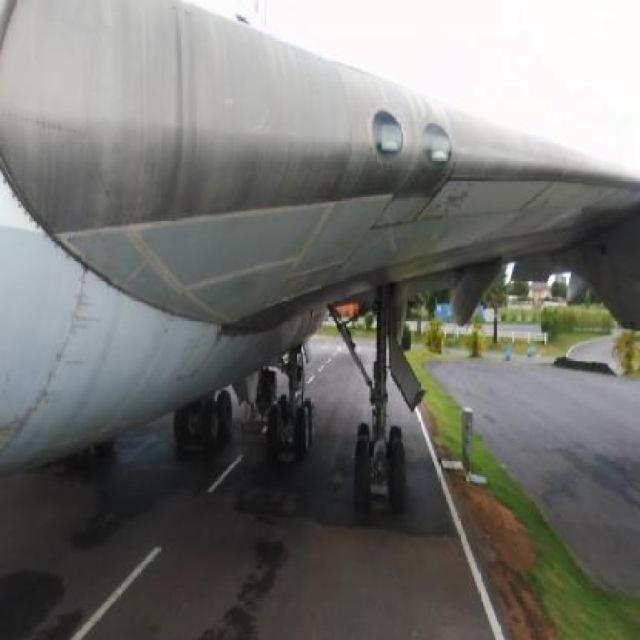Scartch: (425, 176, 481, 227)
